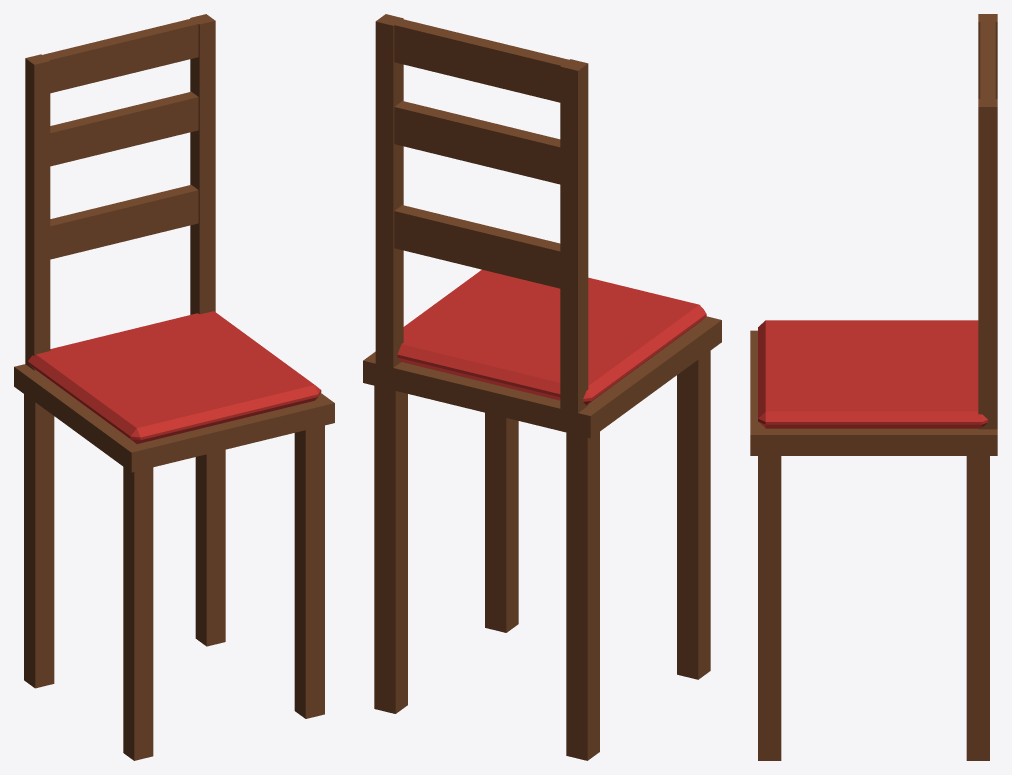
Rendered from chair.glb.
3 views of the same model, side by side, from view 1: azimuth 30°, elevation 25°; view 2: azimuth 150°, elevation 25°; view 3: azimuth 270°, elevation 25° (orthographic). The views are drawn at different scales.
Parts seen in each view (by area): view 1: chair; view 2: chair; view 3: chair.
Boxes of the visible parts, box(x1,y1,x2,y2) form: chair: box(14, 14, 334, 760); chair: box(363, 14, 721, 760); chair: box(750, 14, 997, 760).
Size of the model in its own units: 0.32 by 0.93 by 0.32.
